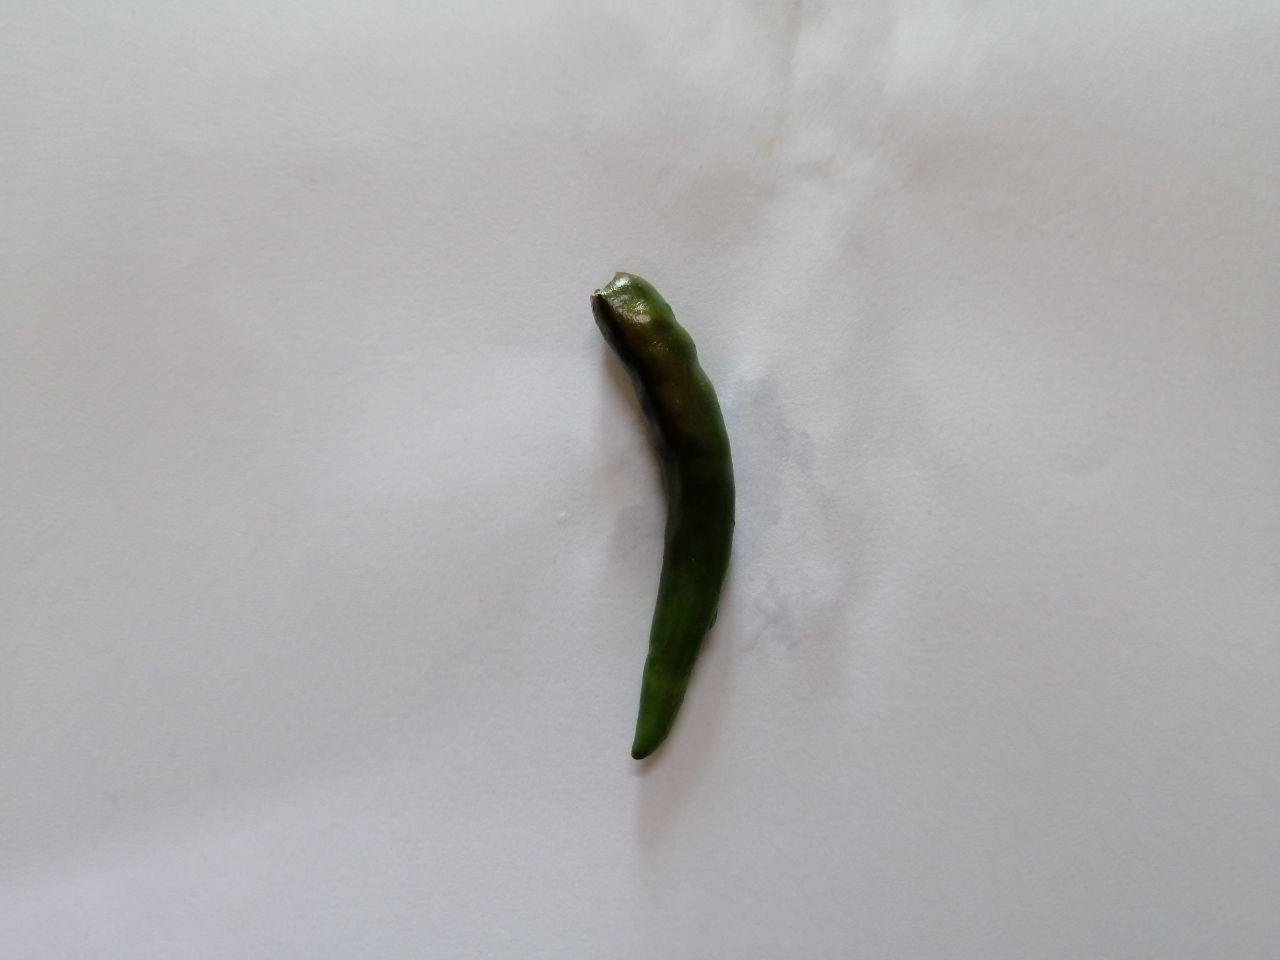lada hijau: (552, 249, 755, 775)
